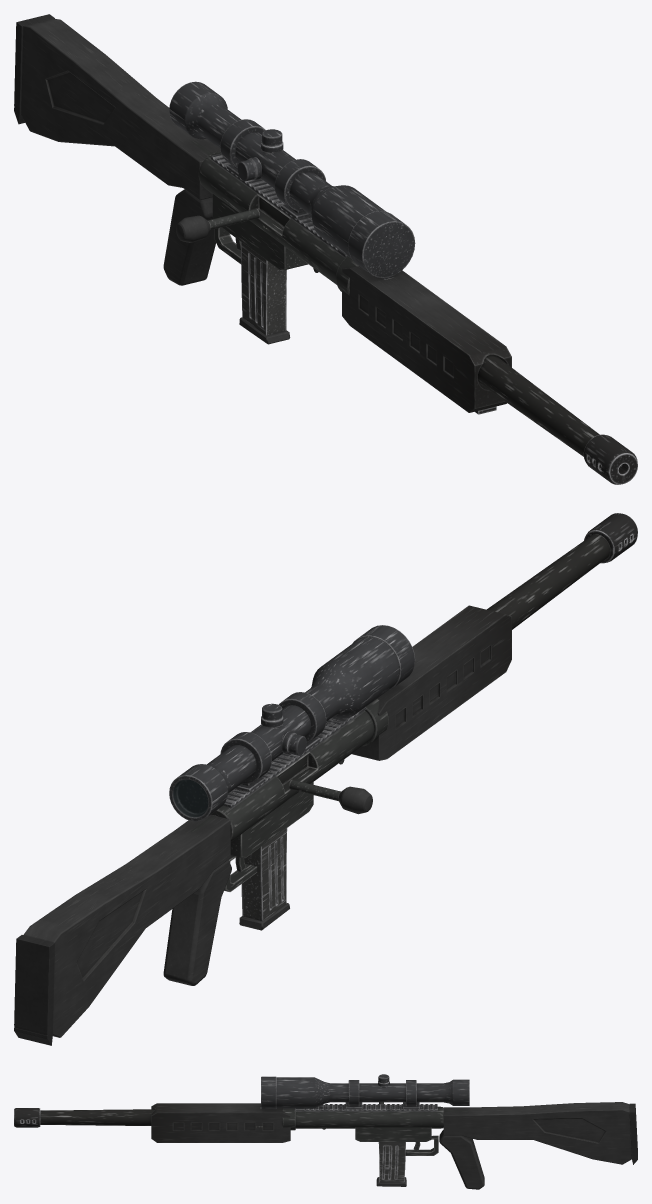
File: hunting_rifle.glb
3 renders of one model, top to bottom at view 1: azimuth 30°, elevation 25°; view 2: azimuth 150°, elevation 25°; view 3: azimuth 270°, elevation 25°, orthographic. The views are drawn at different scales.
Visible parts, largest first — view 1: body, magazine; view 2: body, magazine, hunting_rifle_glass; view 3: body, magazine.
Boxes of the visible parts, box(x1,y1,x2,y2) form: body: box(14, 14, 637, 484); magazine: box(239, 242, 290, 344); body: box(14, 513, 637, 1045); magazine: box(239, 828, 289, 930); hunting_rifle_glass: box(173, 779, 208, 817); body: box(14, 1074, 637, 1189); magazine: box(376, 1142, 406, 1186).
Bounding box in the file's own units: 0.125 × 0.2042 × 1.05.
Materials: 2 (1 with a texture image).
